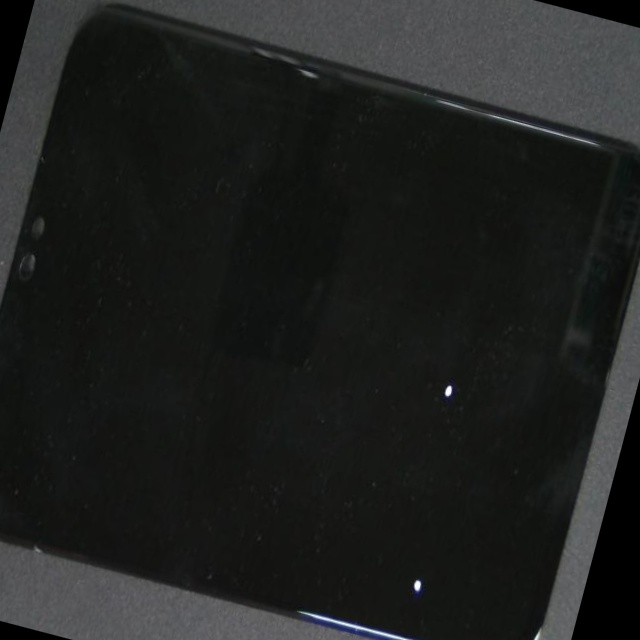stain: (173, 113, 640, 598), (116, 247, 640, 640)
